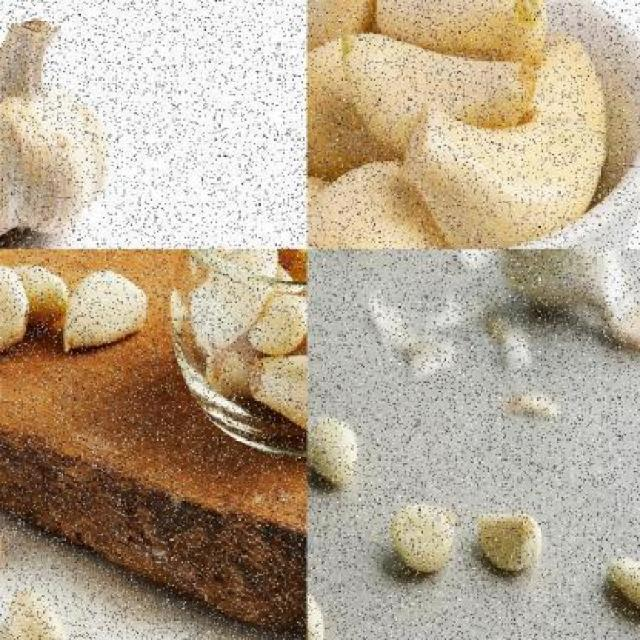garlic: (306, 0, 608, 248), (0, 9, 112, 247), (342, 27, 528, 164), (183, 248, 306, 428), (63, 270, 152, 356), (0, 258, 68, 356), (386, 498, 456, 584), (474, 508, 544, 574), (198, 281, 266, 348), (306, 414, 359, 497), (6, 588, 68, 640), (602, 550, 640, 624)
